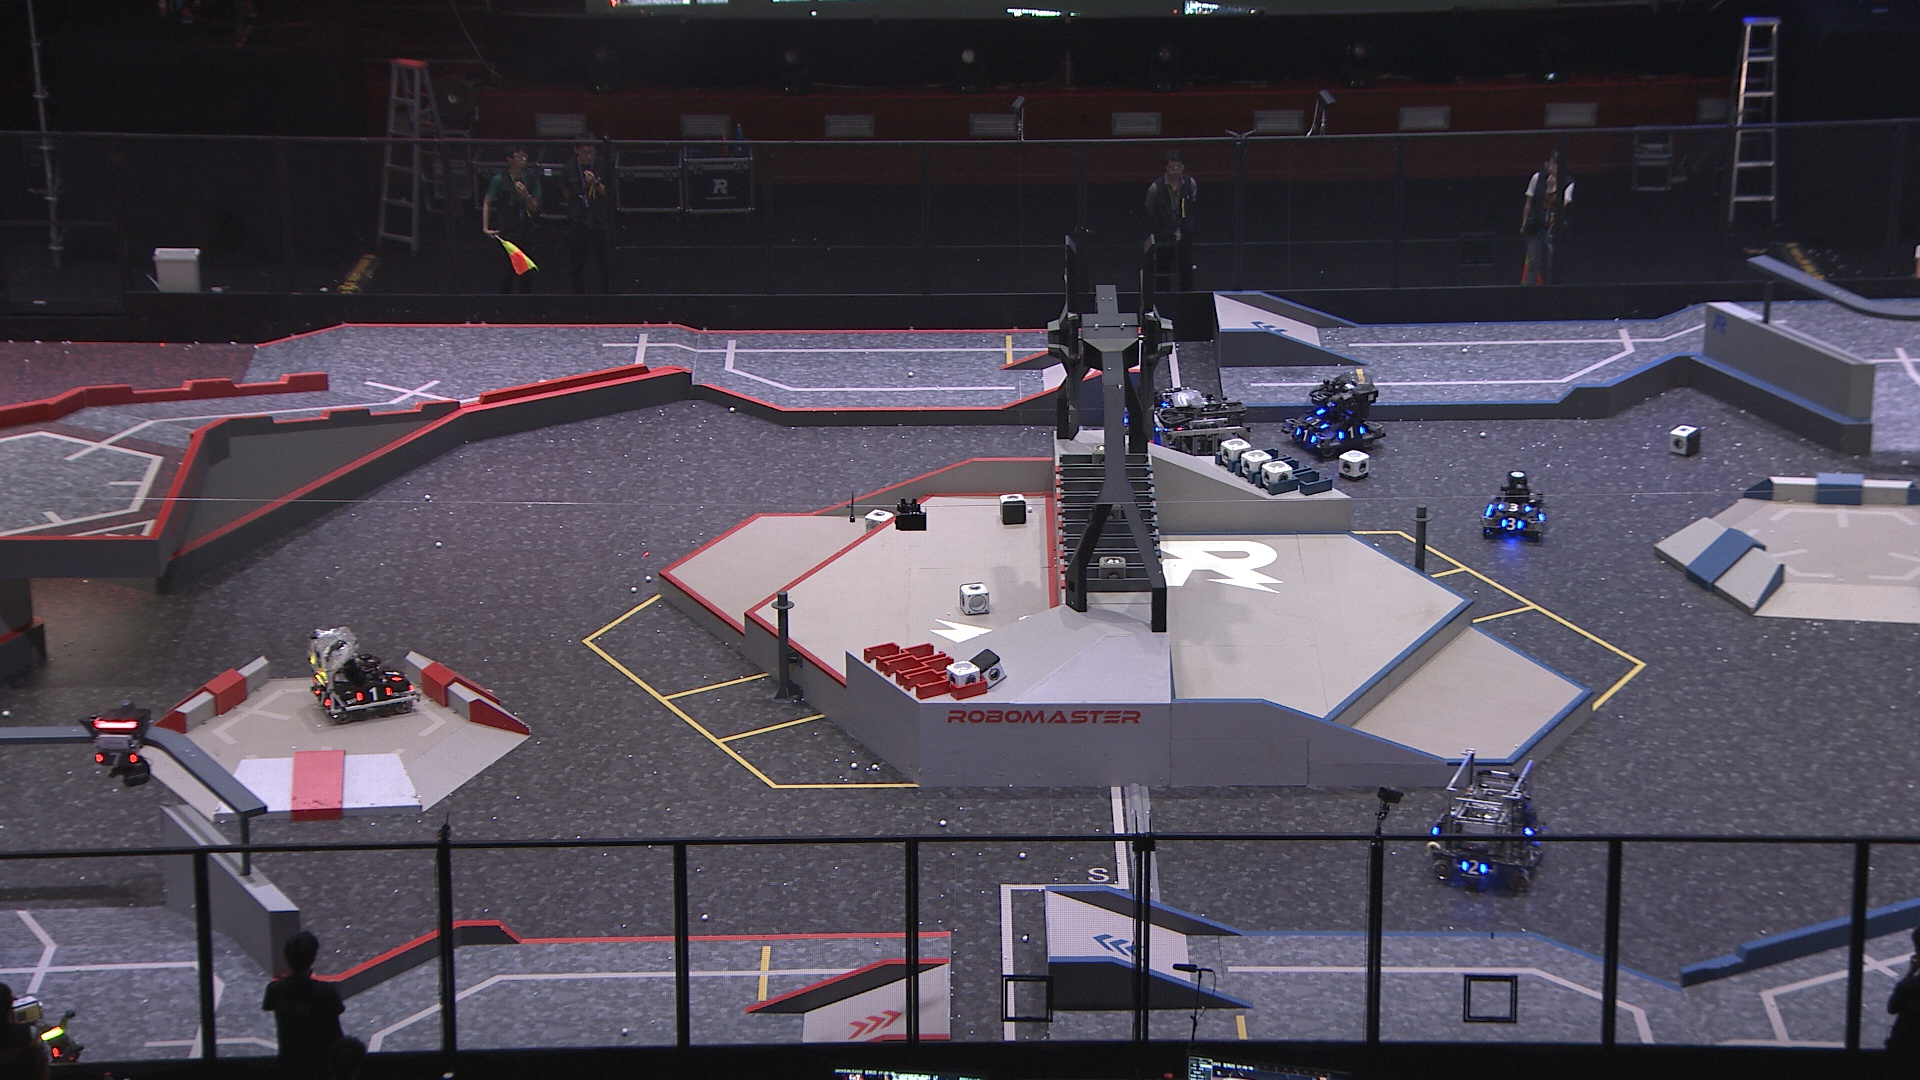armor: (95, 750, 138, 767), (356, 687, 396, 705), (1460, 858, 1489, 878), (1495, 501, 1534, 516), (1338, 425, 1366, 442), (1498, 516, 1524, 533), (382, 666, 405, 684), (1305, 415, 1331, 431), (314, 688, 334, 708), (1296, 429, 1320, 444), (1523, 844, 1542, 862)
car: (1424, 749, 1549, 891), (306, 626, 423, 723), (1153, 390, 1257, 496), (1283, 367, 1389, 462), (1480, 469, 1551, 545)
watcher: (82, 703, 153, 789)
